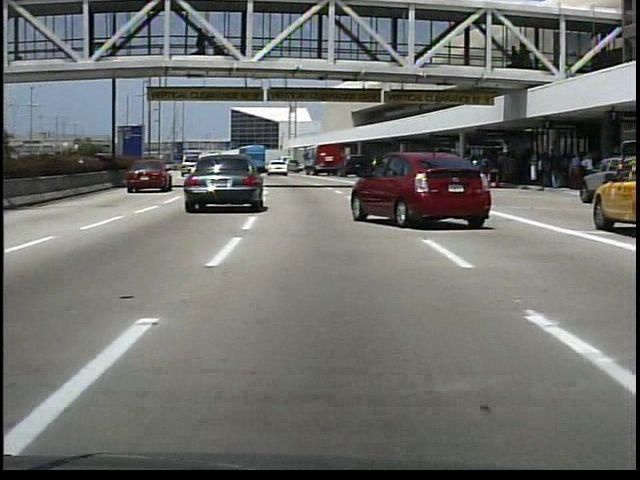person: (195, 30, 211, 58)
